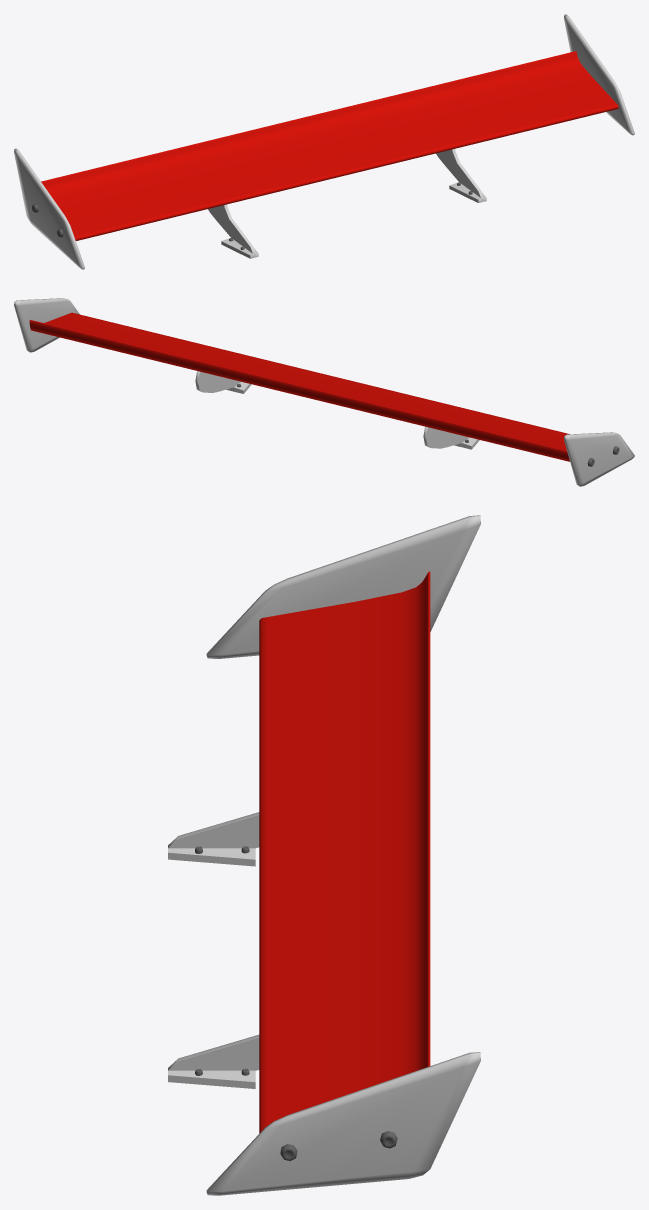
The model's file is Spoiler2.fbx.
The picture shows the model from 3 angles, top to bottom: view 1: azimuth 30°, elevation 25°; view 2: azimuth 150°, elevation 25°; view 3: azimuth 270°, elevation 25°; orthographic projection. The views are drawn at different scales.
Parts seen in each view (by area): view 1: Spoiler_LOD0; view 2: Spoiler_LOD0; view 3: Spoiler_LOD0.
Boxes of the visible parts, bbox=[...] form: Spoiler_LOD0: bbox=[14, 14, 634, 269]; Spoiler_LOD0: bbox=[14, 298, 634, 486]; Spoiler_LOD0: bbox=[168, 515, 480, 1195].
Size of what is drawn, in the model's own units: 300 by 46.75 by 72.66.
